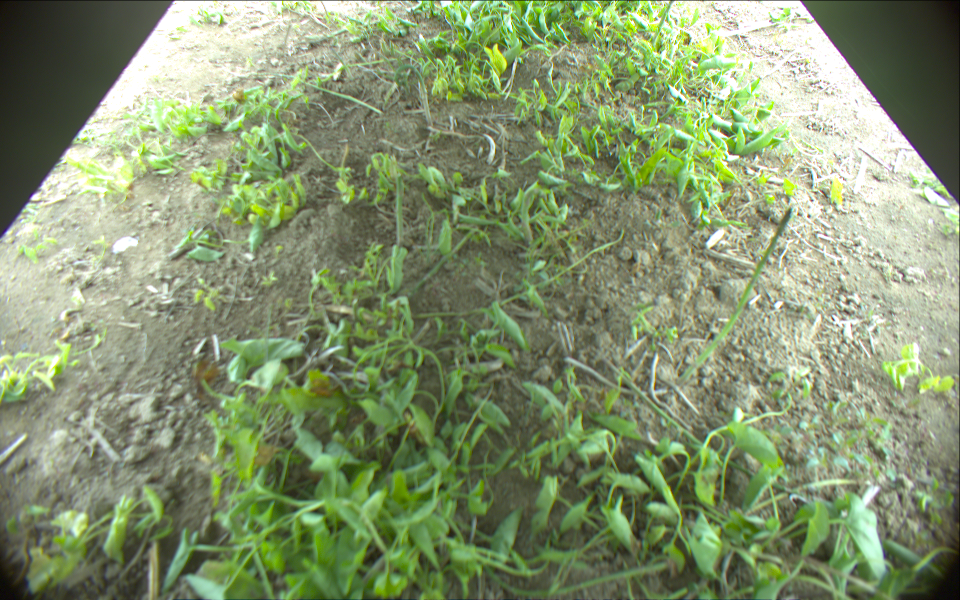aspa: (675, 207, 793, 389), (276, 71, 383, 114), (391, 63, 433, 127), (521, 188, 546, 246), (391, 155, 404, 247), (652, 1, 674, 48)
